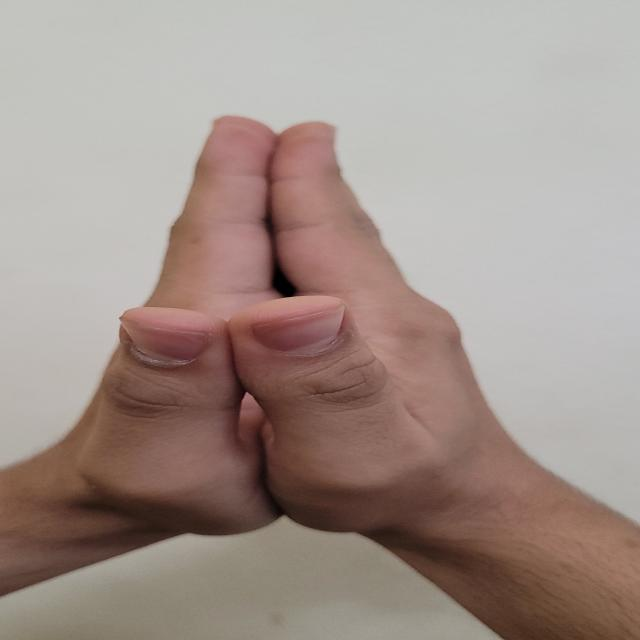Thank You: (1, 98, 551, 570)
